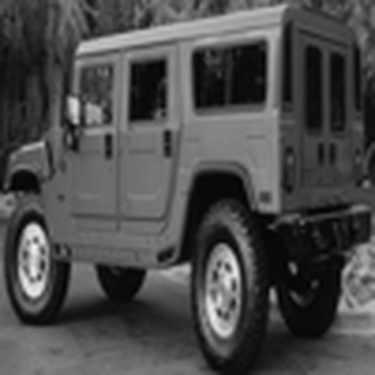car: (6, 5, 372, 371)
